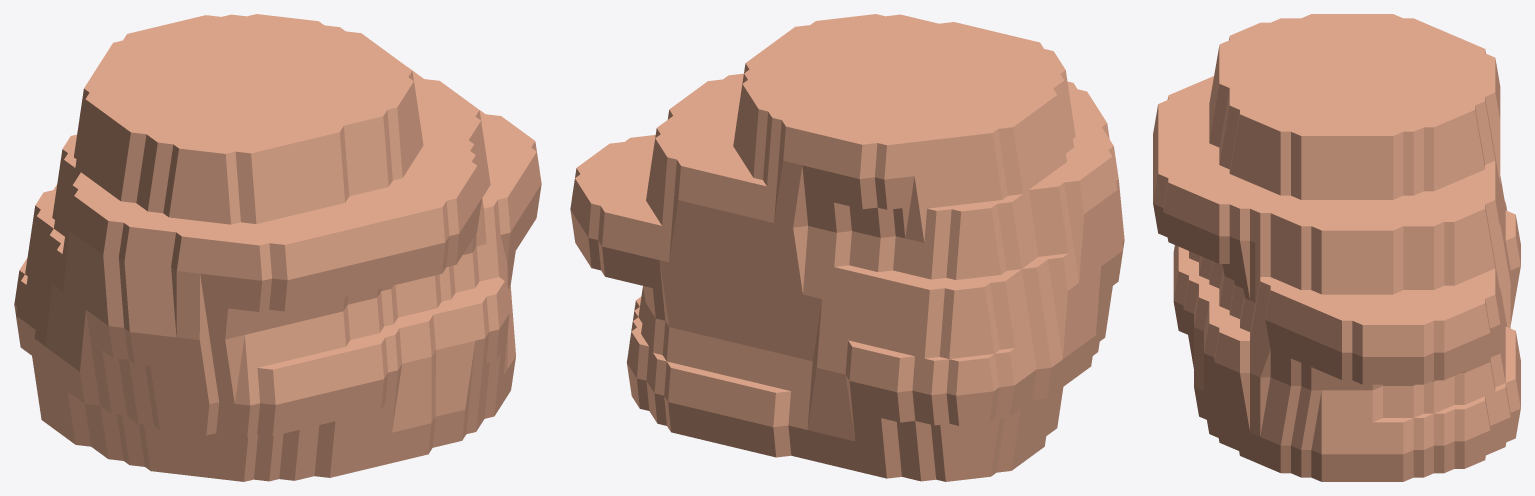
File: lesion.glb
The picture shows the model from 3 angles, left to right: view 1: azimuth 30°, elevation 25°; view 2: azimuth 150°, elevation 25°; view 3: azimuth 270°, elevation 25°; orthographic projection. The views are drawn at different scales.
Visible parts, largest first — view 1: world; view 2: world; view 3: world.
Part boxes in pixels (box(x1,y1,x2,y2)): world: box(14, 14, 541, 481); world: box(570, 14, 1124, 481); world: box(1153, 14, 1520, 481).
Bounding box in the file's own units: 0.038 × 0.0251 × 0.0279.
